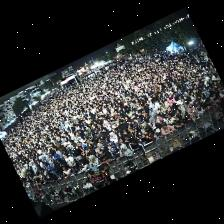person: (128, 139, 147, 159), (64, 154, 78, 173), (68, 145, 80, 162), (43, 163, 57, 177), (142, 129, 155, 143), (99, 150, 112, 164), (161, 122, 174, 135), (78, 158, 89, 172), (45, 171, 57, 183), (85, 146, 97, 158), (119, 145, 131, 157), (173, 115, 183, 129), (209, 94, 219, 108), (132, 127, 142, 140), (88, 155, 98, 168), (123, 129, 133, 142), (109, 132, 118, 146), (94, 129, 104, 141), (151, 99, 159, 113), (63, 166, 71, 180), (189, 111, 199, 122), (97, 138, 108, 148), (164, 107, 174, 118), (118, 137, 127, 149), (54, 147, 63, 159), (148, 118, 157, 130), (187, 102, 195, 115), (177, 102, 185, 115), (202, 99, 211, 110), (119, 119, 128, 130), (112, 146, 119, 160), (195, 103, 202, 117), (166, 114, 174, 126), (148, 109, 156, 121), (167, 94, 174, 107), (97, 144, 107, 153), (26, 179, 35, 188), (157, 118, 165, 128), (137, 122, 145, 132), (160, 102, 167, 113), (26, 180, 35, 188), (33, 176, 41, 185), (103, 121, 110, 131), (108, 142, 113, 156), (154, 129, 161, 138), (105, 177, 114, 184), (174, 110, 180, 119)
